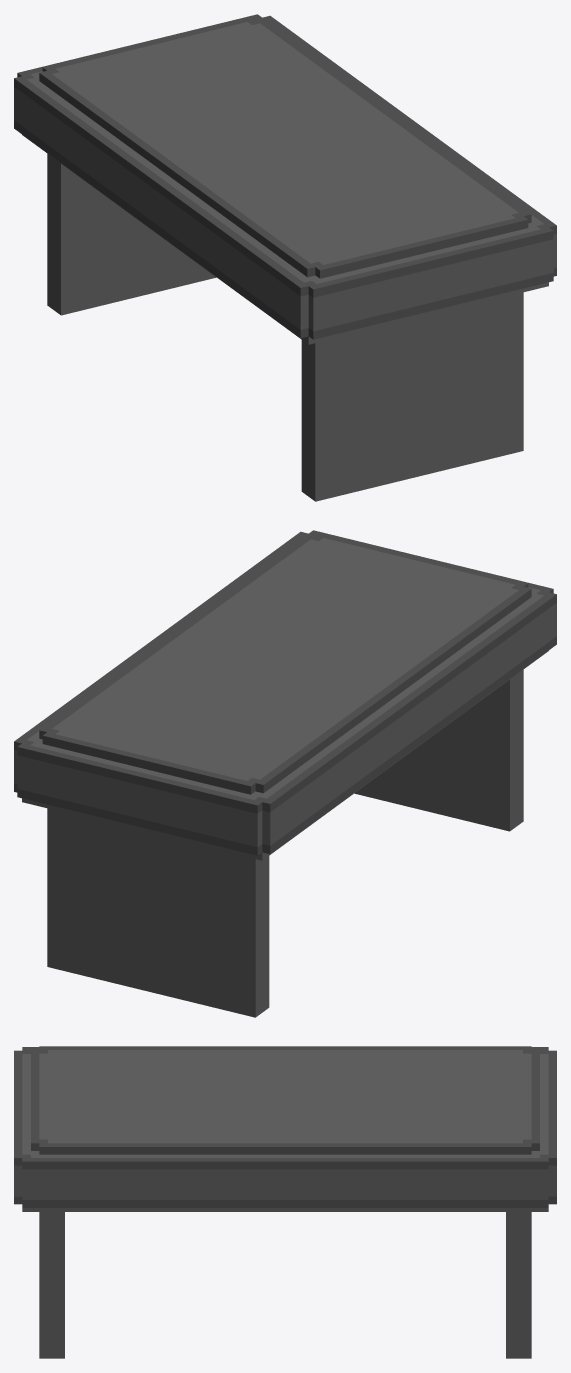
File: Bench.fbx
3 renders of one model, top to bottom at view 1: azimuth 30°, elevation 25°; view 2: azimuth 150°, elevation 25°; view 3: azimuth 270°, elevation 25°, orthographic. The views are drawn at different scales.
Parts seen in each view (by area): view 1: Matrix; view 2: Matrix; view 3: Matrix.
Part boxes in pixels (<box>): Matrix: <box>14,14,556,501</box>; Matrix: <box>14,530,556,1017</box>; Matrix: <box>14,1046,556,1358</box>.
Size of the model in its own units: 32 by 28 by 64.
